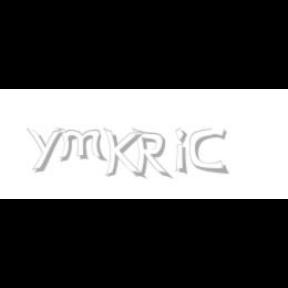C: (190, 128, 226, 174)
K: (103, 128, 143, 180)
R: (132, 128, 170, 180)
i: (175, 128, 191, 176)
m: (56, 128, 108, 162)
y: (27, 128, 67, 172)
